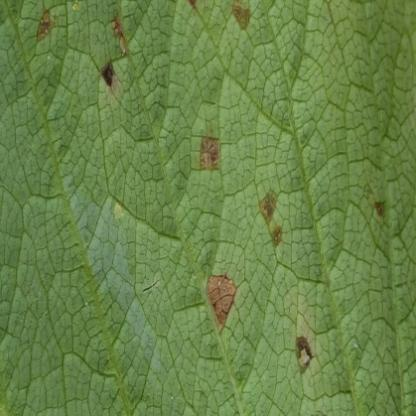Strawberry_Angular_LeafSpot: (25, 0, 394, 374)
